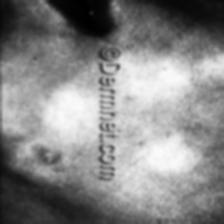Non-Cancerous Skin Condition: (14, 137, 74, 186)
